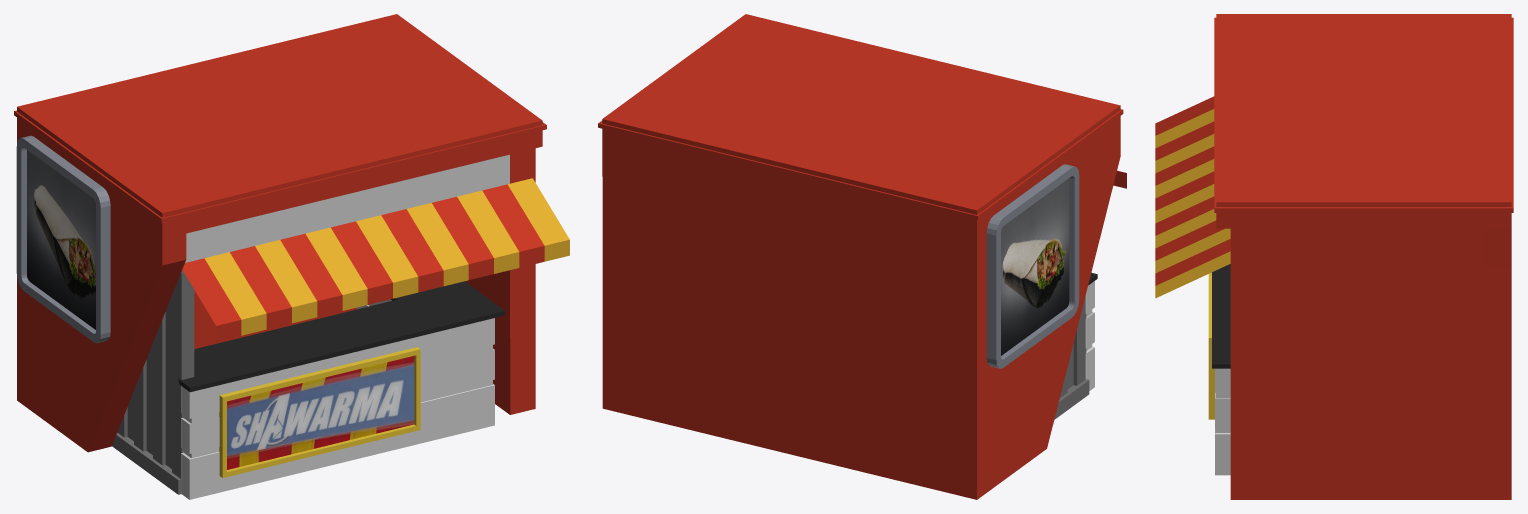
Rendered from Shaurmichka.fbx.
3 views of the same model, side by side, from view 1: azimuth 30°, elevation 25°; view 2: azimuth 150°, elevation 25°; view 3: azimuth 270°, elevation 25° (orthographic). The views are drawn at different scales.
Visible parts, largest first — view 1: Cube.002; view 2: Cube.002; view 3: Cube.002.
Part boxes in pixels (left/top/right/bottom): Cube.002: left=14, top=14, right=569, bottom=499; Cube.002: left=598, top=14, right=1126, bottom=499; Cube.002: left=1155, top=14, right=1513, bottom=499.
Size of the model in its own units: 541 by 386 by 421.
Materials: 12 (2 with a texture image).
